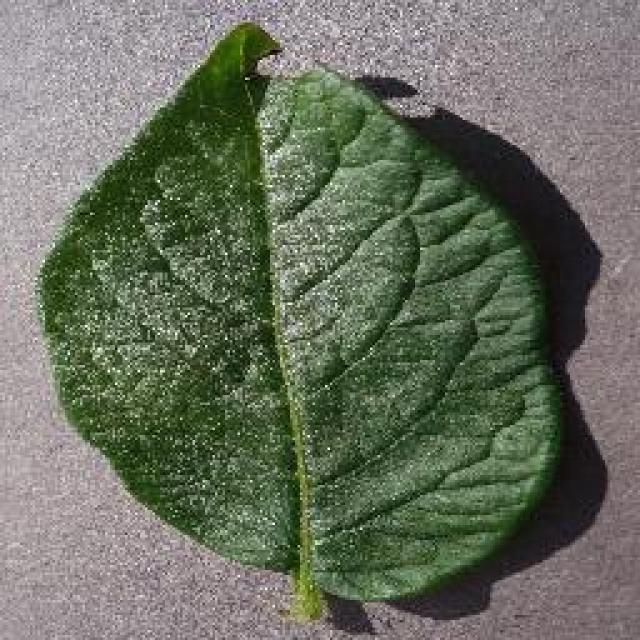healthy: (30, 18, 568, 618)
